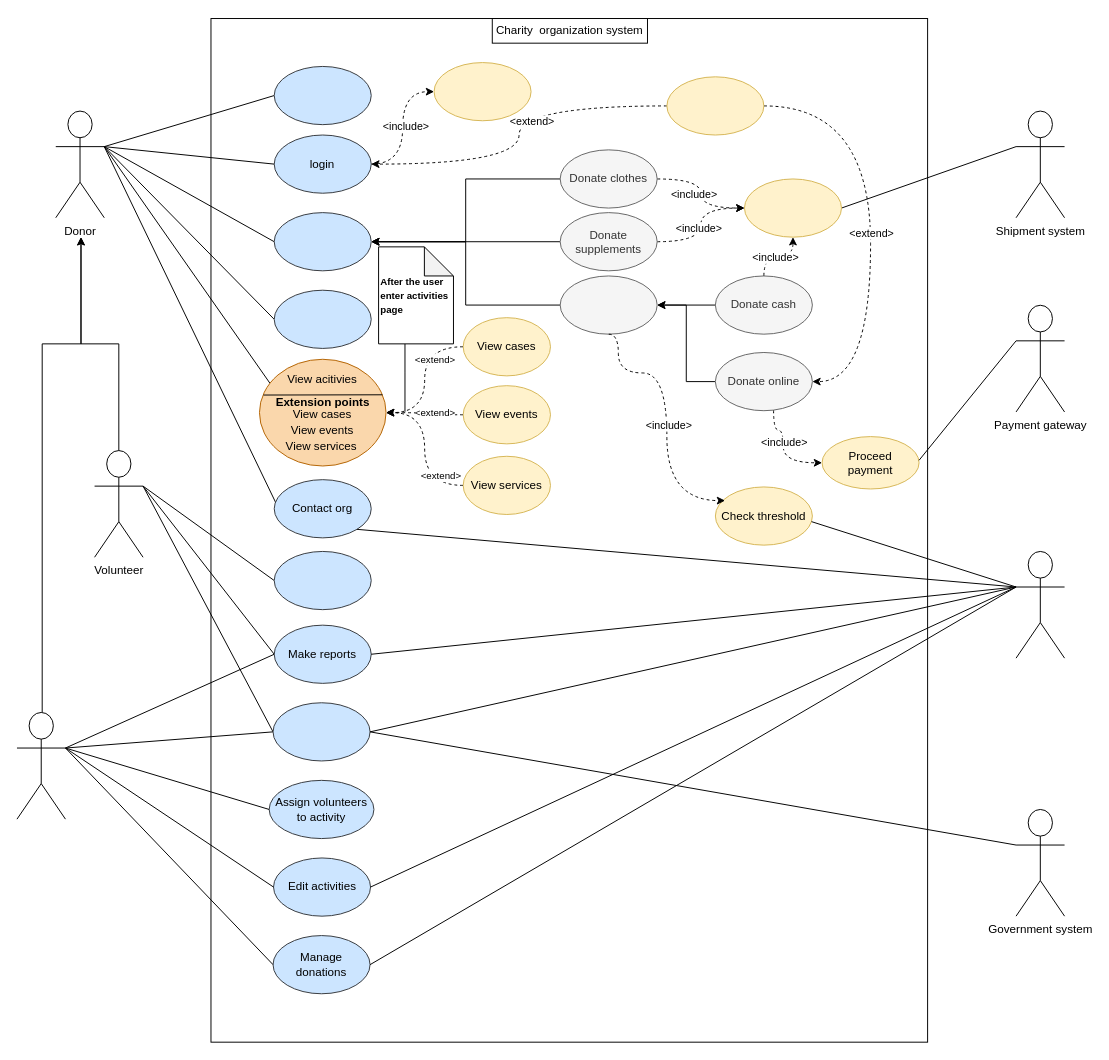
The diagram is 1109 pixels wide and 1060 high, and some of its shapes have lost their labels. Each missing label, with the box of its shape:
Admin: (16, 711, 65, 819)
Apply for activity: (273, 550, 371, 610)
Check password: (433, 62, 531, 121)
Create Account: (273, 65, 371, 125)
Create activity: (272, 702, 370, 761)
Donate: (273, 212, 371, 271)
Donate money: (559, 275, 657, 334)
Edit profile: (273, 289, 371, 348)
enter address details: (744, 178, 841, 237)
Organization: (1015, 550, 1065, 658)
Show error message: (666, 76, 764, 135)
